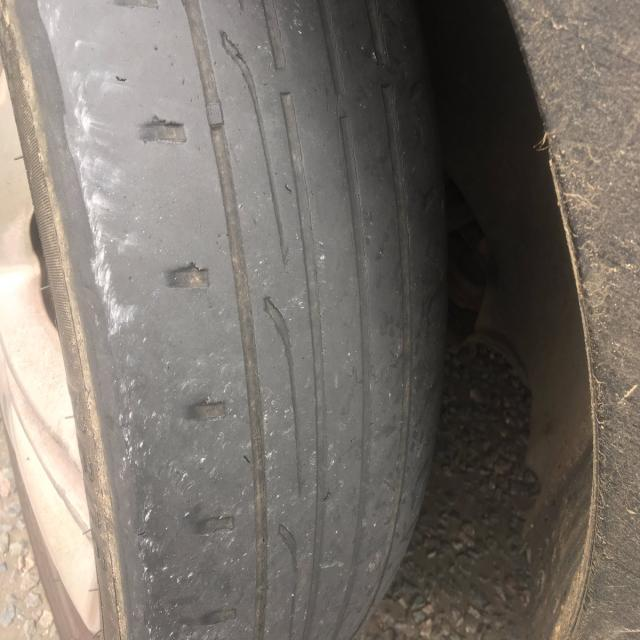Flat spots: (134, 0, 372, 639)
